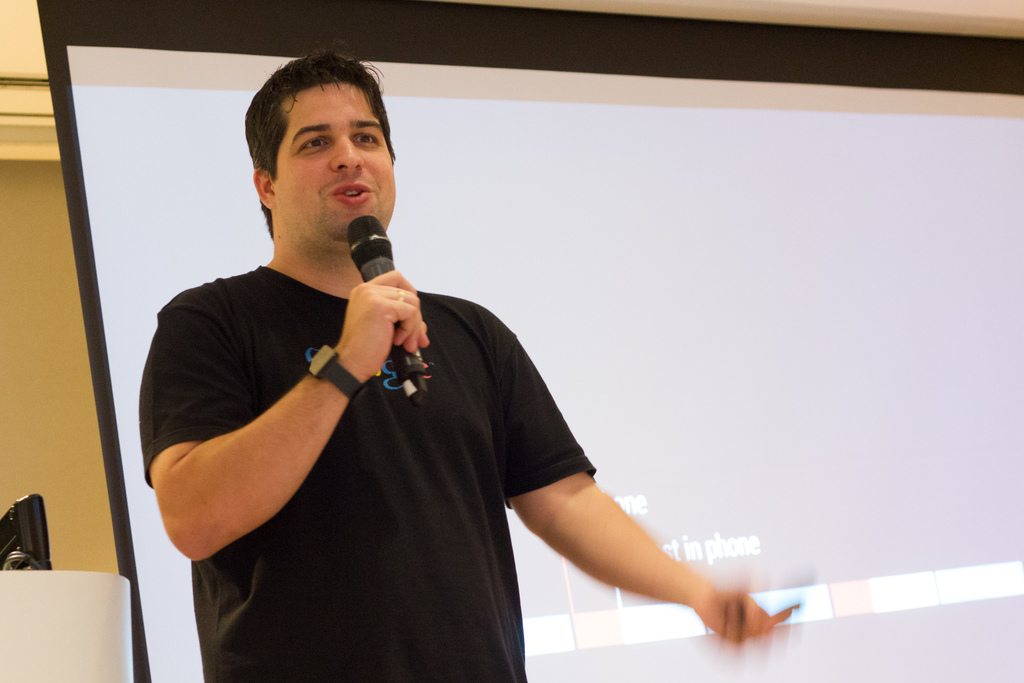Person: (138, 36, 799, 682)
